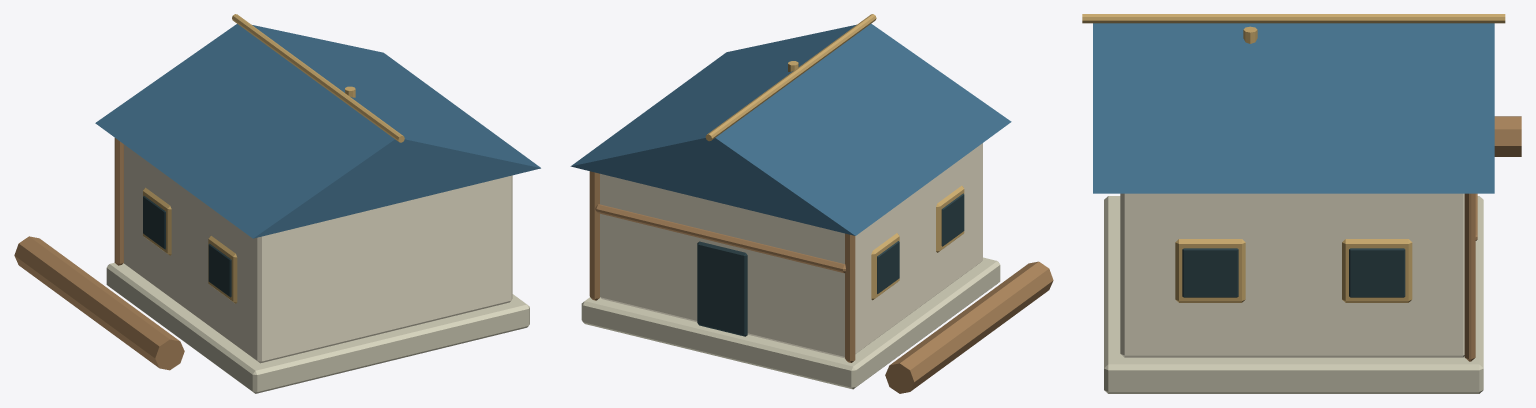
Rendered from level_03.glb.
3 renders of one model, left to right at view 1: azimuth 30°, elevation 25°; view 2: azimuth 150°, elevation 25°; view 3: azimuth 270°, elevation 25°, orthographic. The views are drawn at different scales.
Visible parts, largest first — view 1: timber_yard — level 03; view 2: timber_yard — level 03; view 3: timber_yard — level 03.
Part boxes in pixels (<box>): timber_yard — level 03: <box>14,14,540,393</box>; timber_yard — level 03: <box>570,14,1053,393</box>; timber_yard — level 03: <box>1082,14,1521,393</box>.
Bounding box in the file's own units: 4.85 × 3.01 × 4.05.
